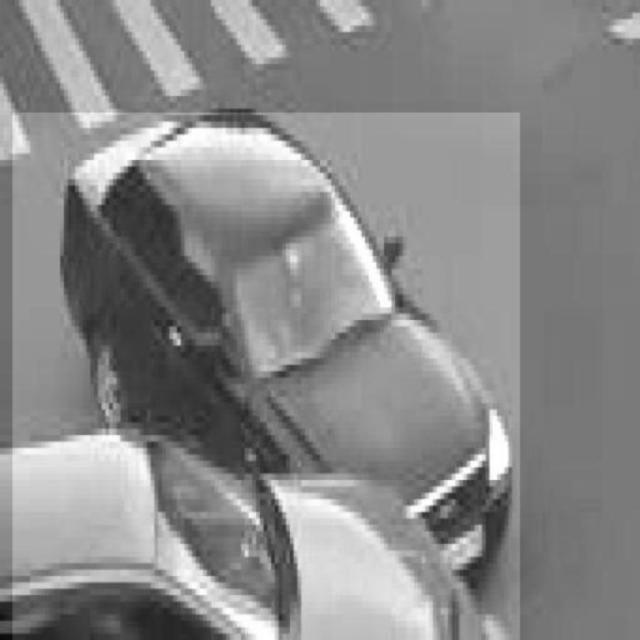accident: (13, 113, 520, 640)
